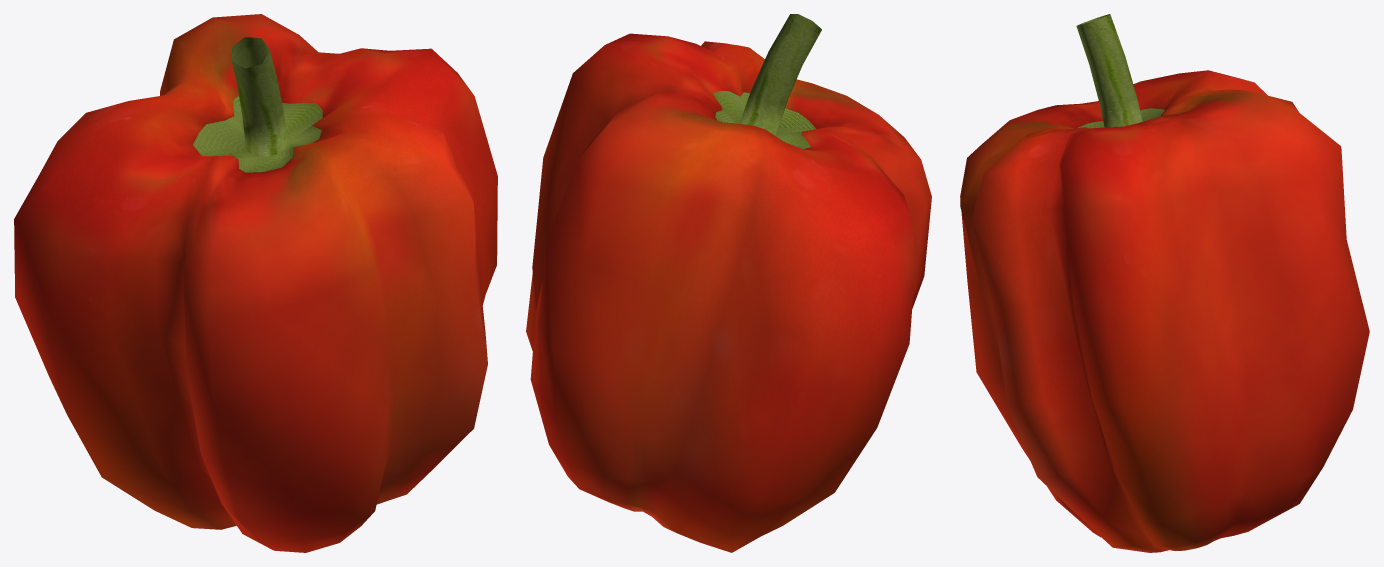
File: VG07_5_fruit4.dae
3 views of the same model, side by side, from view 1: azimuth 30°, elevation 25°; view 2: azimuth 150°, elevation 25°; view 3: azimuth 270°, elevation 25° (orthographic). The views are drawn at different scales.
Parts seen in each view (by area): view 1: VG07_024; view 2: VG07_024; view 3: VG07_024.
Boxes of the visible parts, <box> form: VG07_024: <box>14,14,497,552</box>; VG07_024: <box>526,14,931,552</box>; VG07_024: <box>960,14,1369,552</box>.
Size of the model in its own units: 0.0697 by 0.0624 by 0.0827.
2 materials, 2 textured.
